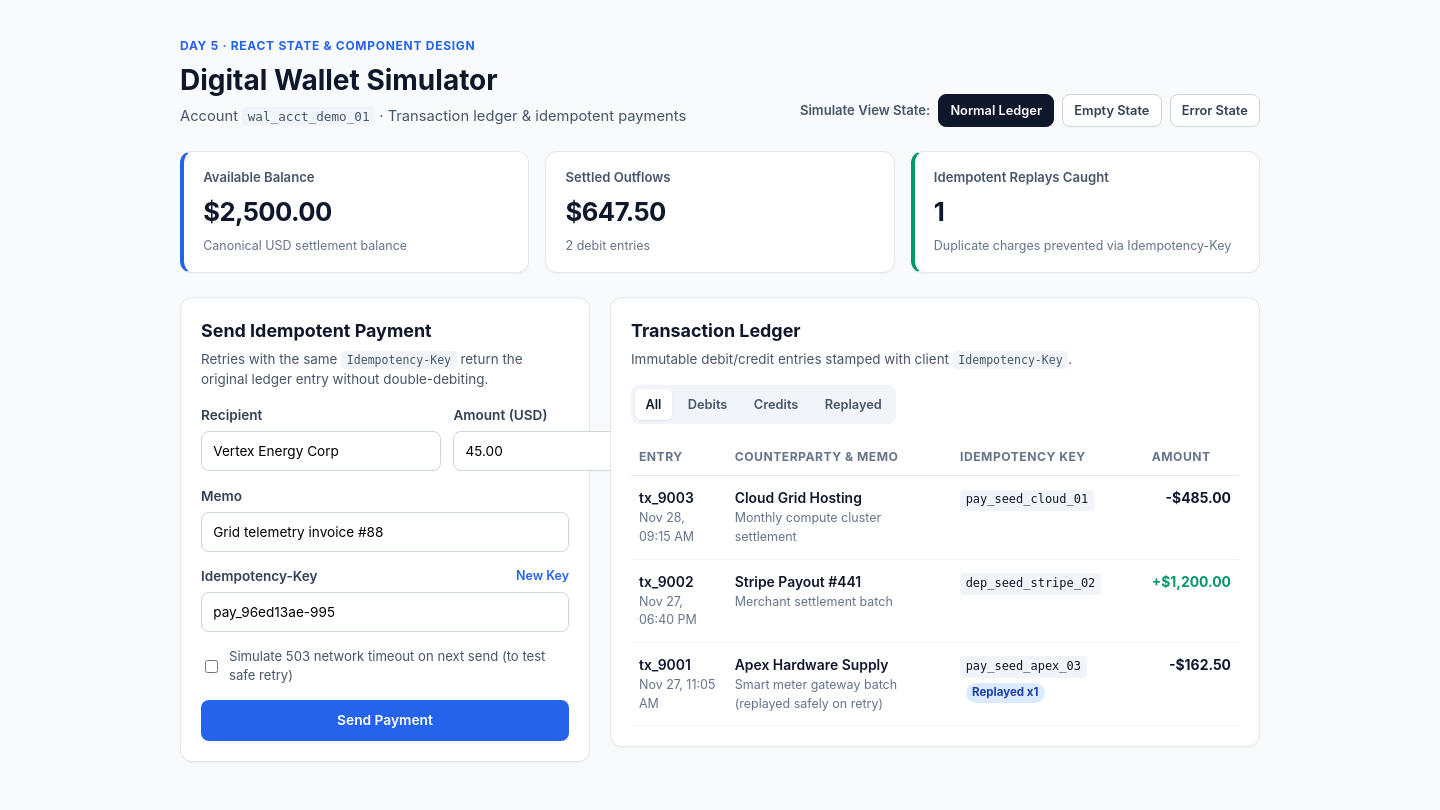
it: WalletDashboard (Day 5 React State & Component Design) › demonstrates empty ledger state and empty filter state with recovery actions
Check: the text "$2,500.00" is shown, box [203, 196, 332, 227]
Step 1. Click the button "Empty State" → (1112,110), box [1062, 94, 1162, 127]
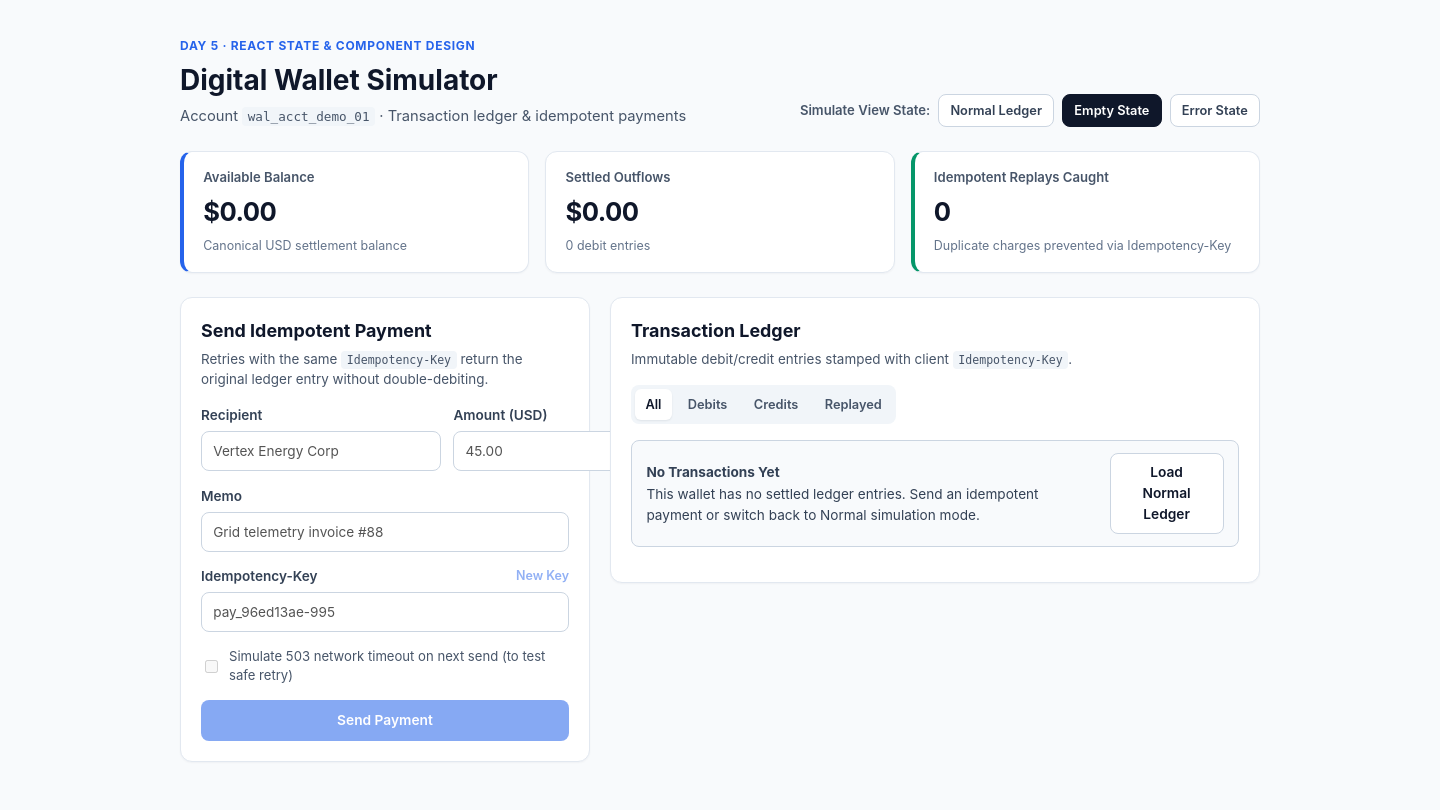
Check: the text "No Transactions Yet" is shown, box [646, 464, 780, 480]
Check: the button "Send Payment" is disabled, box [201, 700, 569, 740]
Step 2. Click the button "Load Normal Ledger" → (1167,493), box [1110, 453, 1224, 534]
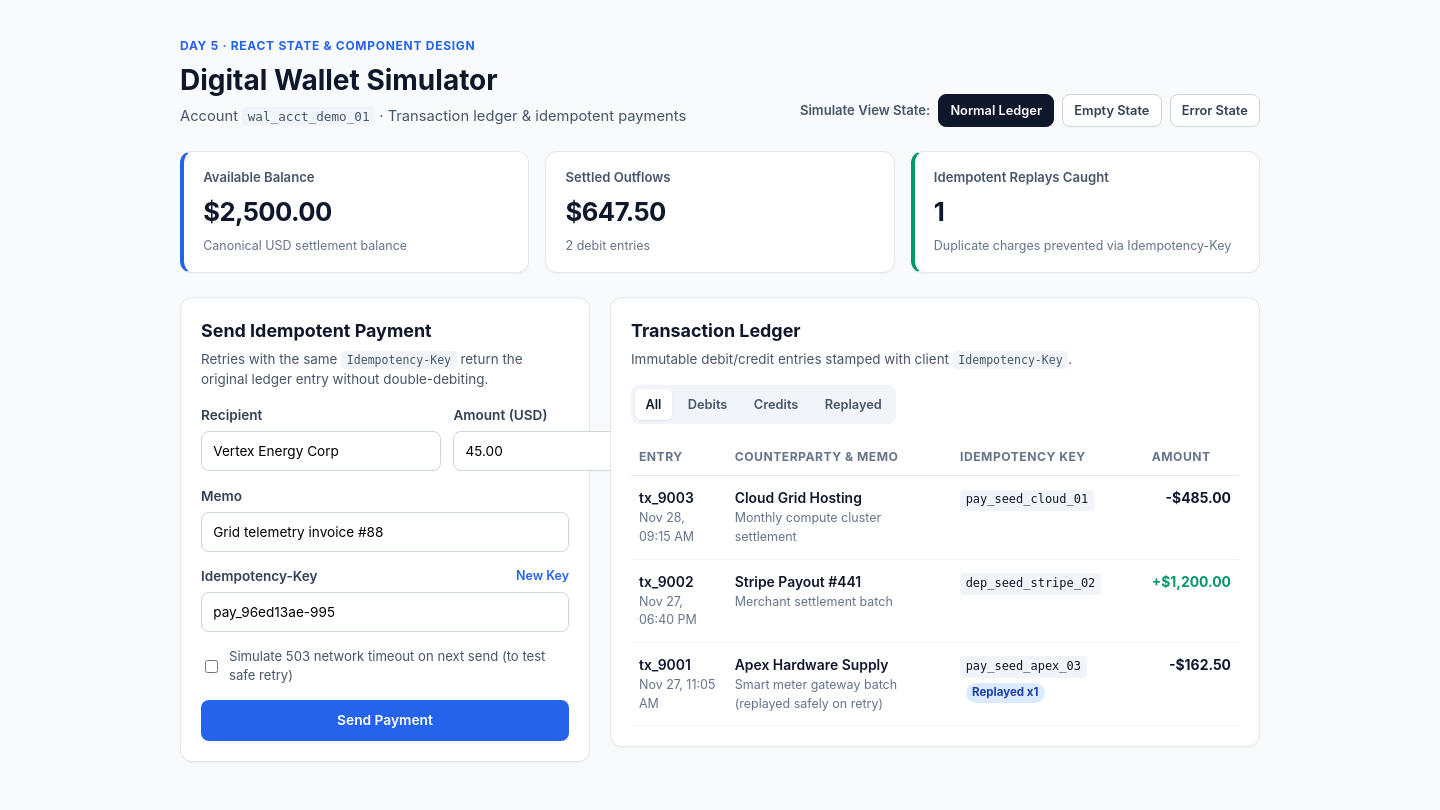
Check: the text "Cloud Grid Hosting" is shown, box [735, 490, 862, 506]
// Filter to Credits, verify debits hidden
Step 3. Click the tab "Credits" → (776,404), box [743, 389, 809, 420]
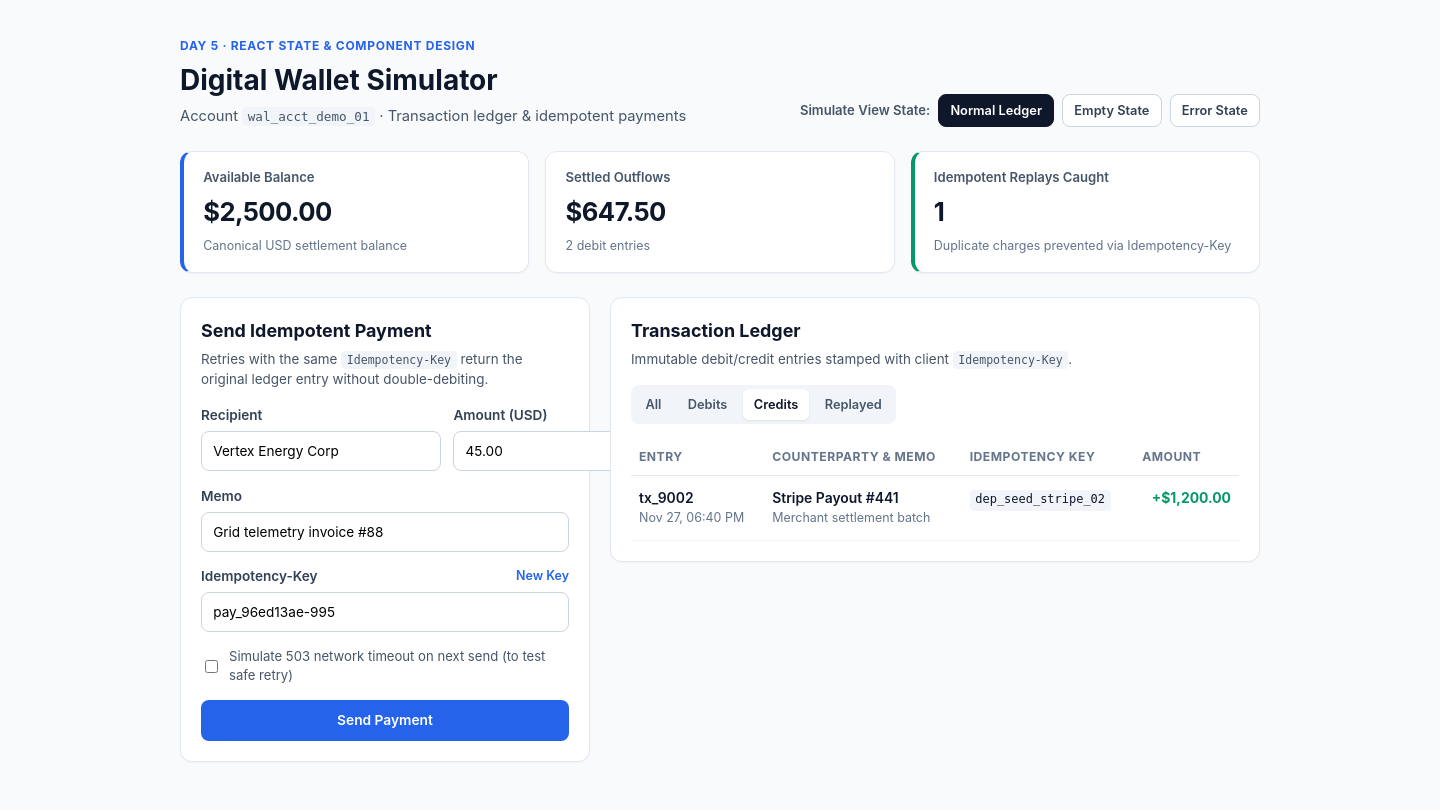
Check: the text "Stripe Payout #441" is shown, box [772, 490, 899, 506]
Check: the text "Cloud Grid Hosting" is gone
